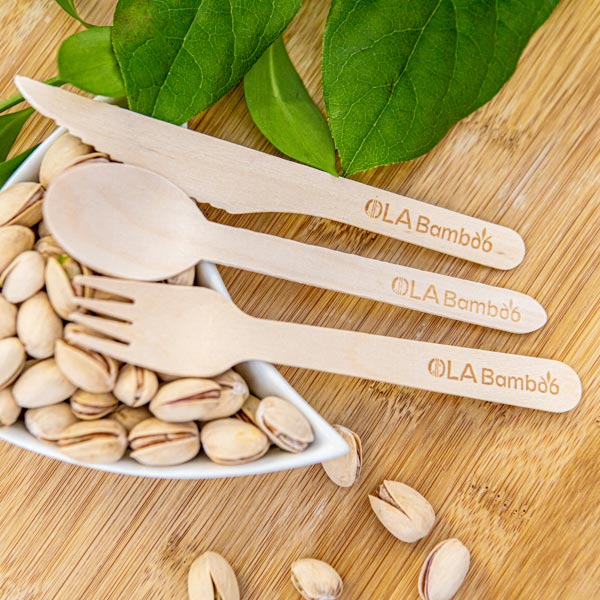Wooden Utensils: (17, 48, 536, 274), (37, 148, 582, 345), (31, 286, 600, 421)
